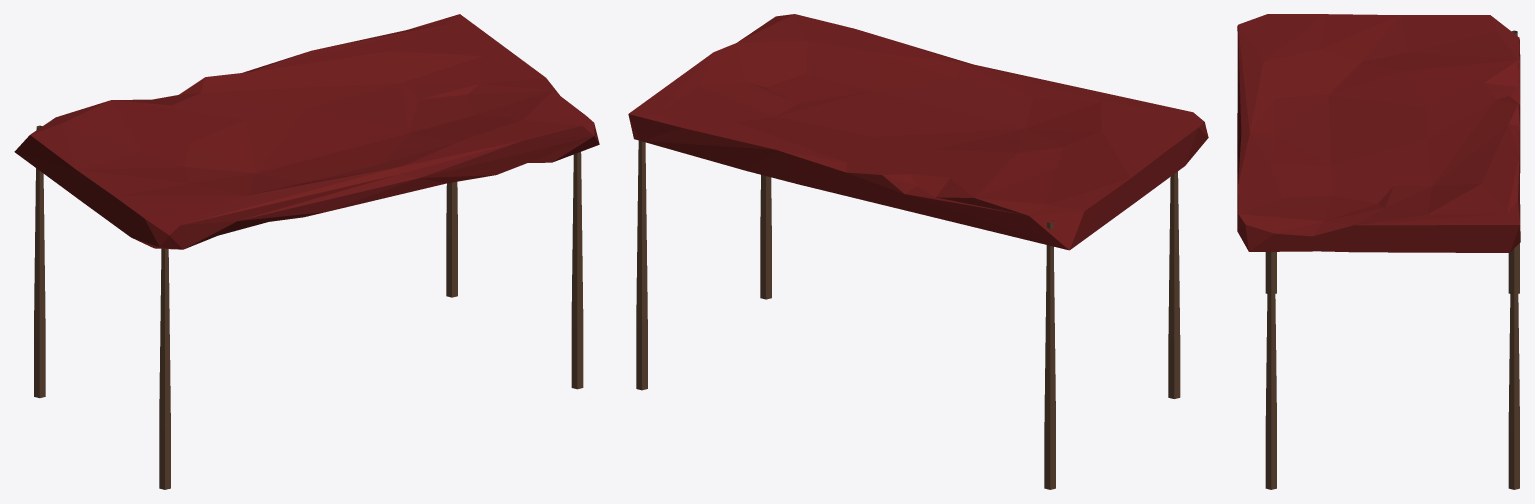
File: SM_marketstand_02.fbx
The picture shows the model from 3 angles, left to right: view 1: azimuth 30°, elevation 25°; view 2: azimuth 150°, elevation 25°; view 3: azimuth 270°, elevation 25°; orthographic projection. The views are drawn at different scales.
Visible parts, largest first — view 1: Cylinder003; view 2: Cylinder003; view 3: Cylinder003.
Part boxes in pixels (x1,y1,x2,y2): Cylinder003: (14,14,599,489); Cylinder003: (628,14,1208,489); Cylinder003: (1237,14,1520,489).
Bounding box in the file's own units: 163 × 96.4 × 92.46.
